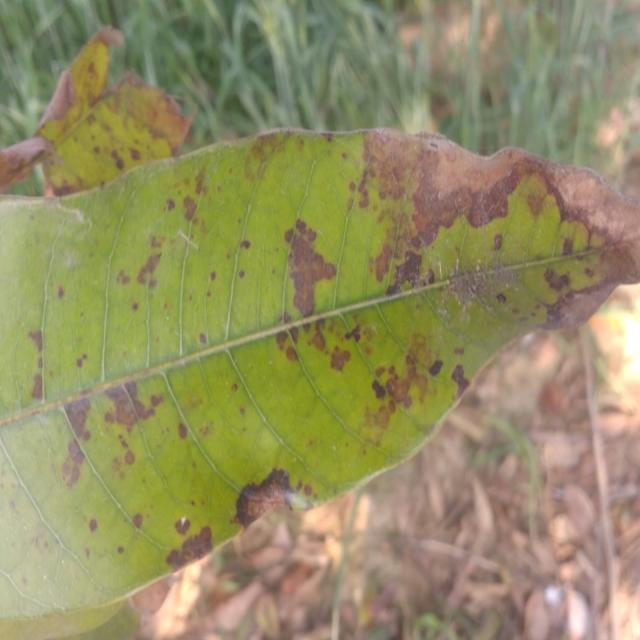Anthracnose: (363, 112, 630, 280), (62, 382, 178, 480), (281, 218, 329, 336)
